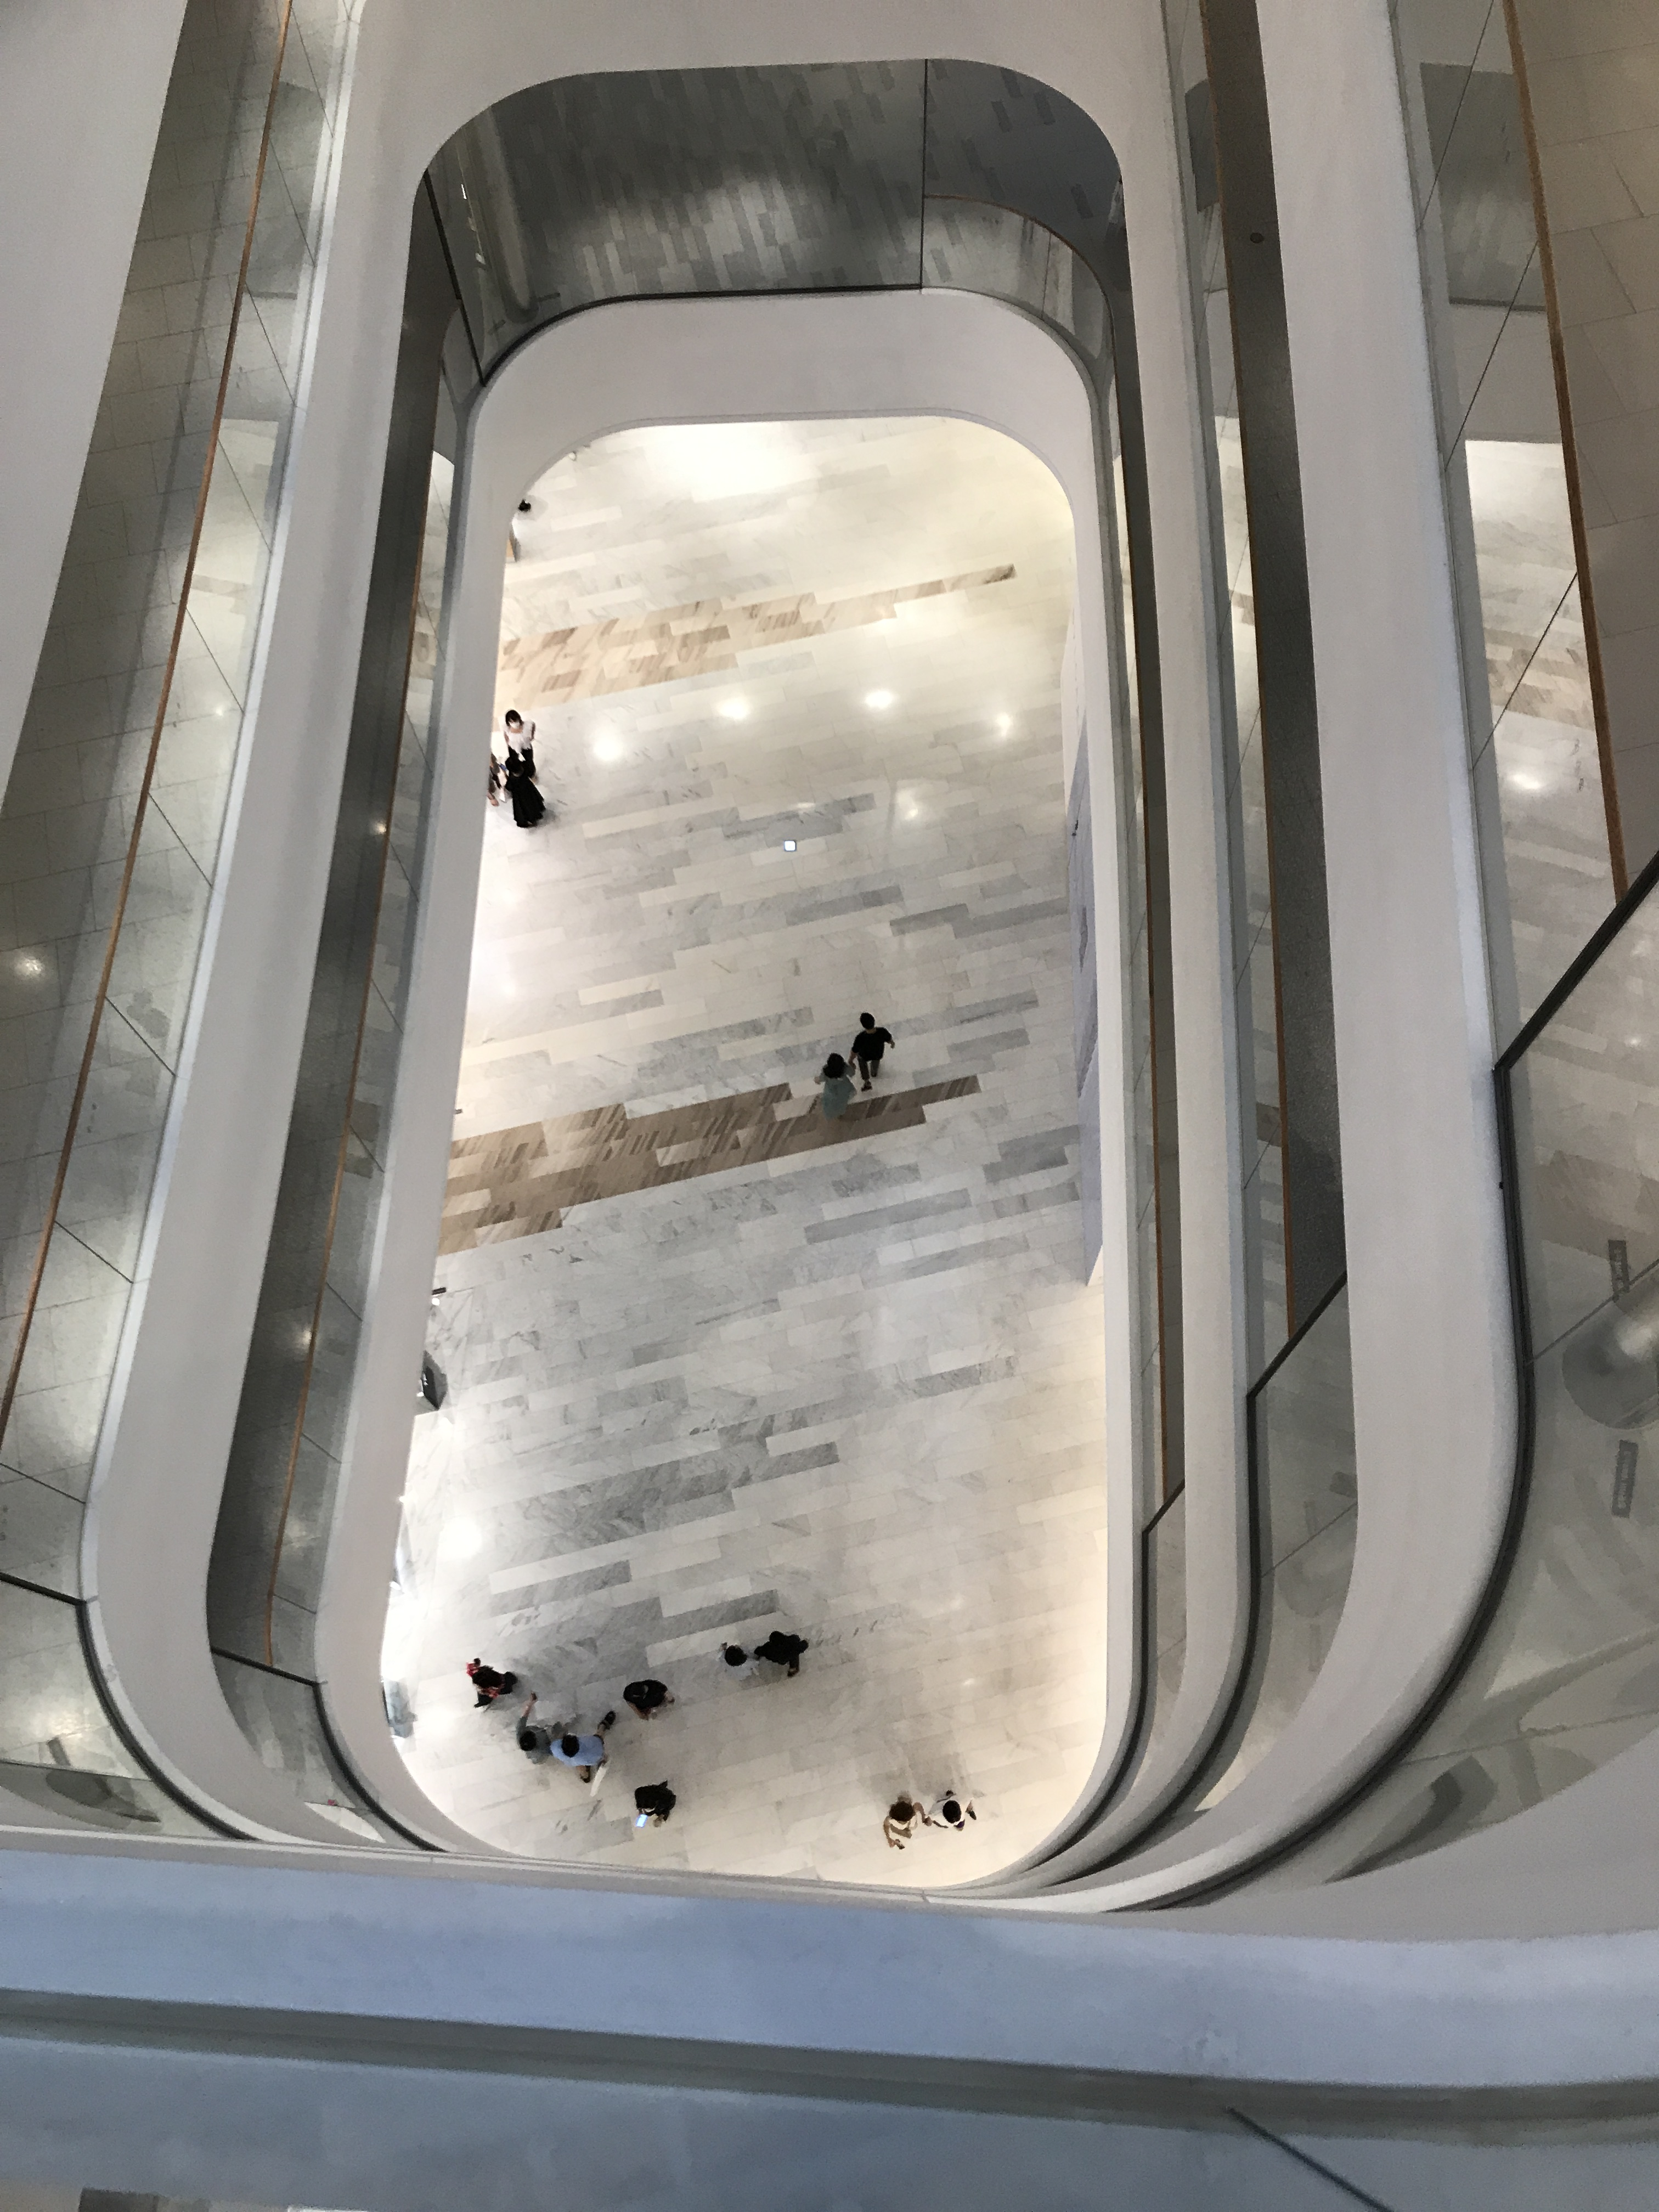person: (513, 1700, 582, 1765), (549, 1728, 609, 1789), (849, 1014, 893, 1093), (501, 758, 548, 829), (754, 1626, 810, 1683), (462, 1657, 517, 1712), (918, 1794, 980, 1837), (878, 1797, 925, 1852), (501, 708, 538, 769), (815, 1053, 856, 1113), (628, 1778, 673, 1831), (618, 1679, 676, 1718), (714, 1637, 749, 1671)
